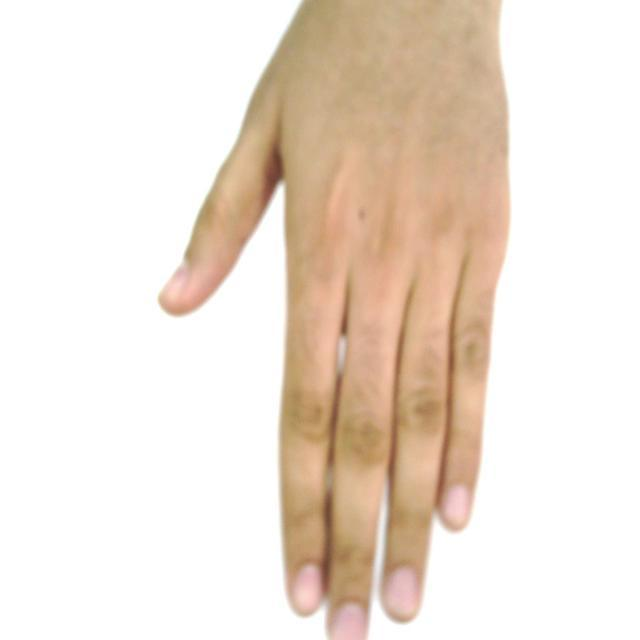Fingernail: (386, 569, 418, 618), (294, 565, 321, 615), (332, 605, 366, 639), (443, 486, 469, 527), (162, 263, 187, 294)
